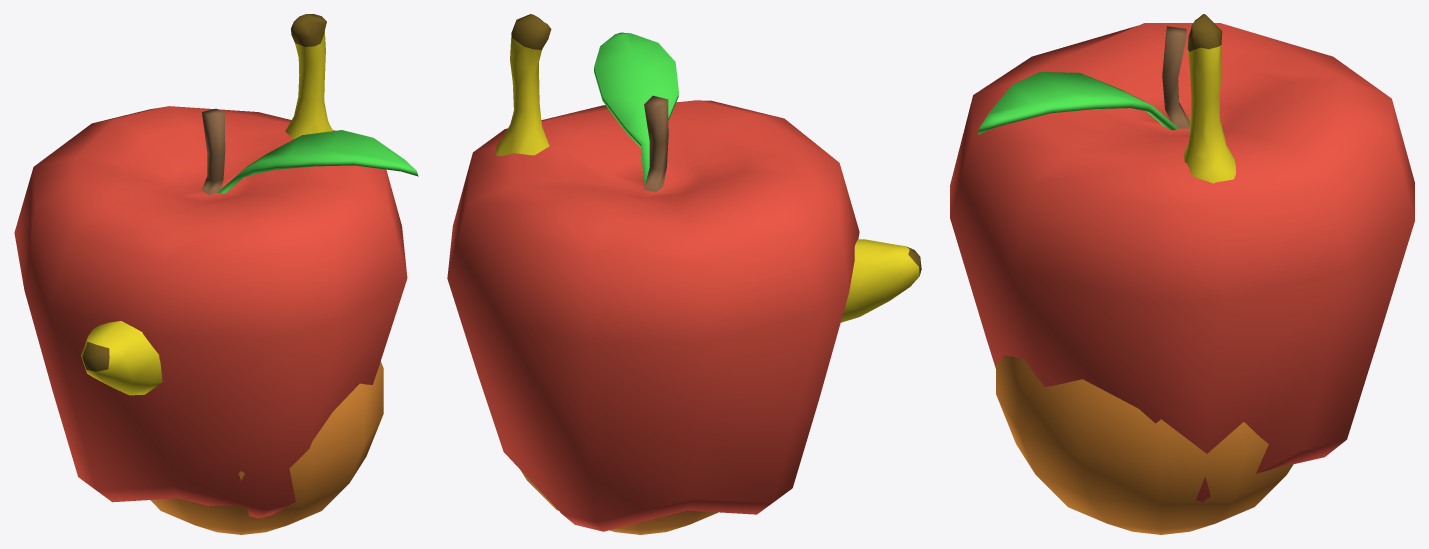
File: shailushaiHead2.fbx
3 renders of one model, left to right at view 1: azimuth 30°, elevation 25°; view 2: azimuth 150°, elevation 25°; view 3: azimuth 270°, elevation 25°, orthographic. The views are drawn at different scales.
Visible parts, largest first — view 1: Cube.026_Cube, group1203776062, Banana; view 2: Cube.026_Cube, Banana, group1203776062; view 3: Cube.026_Cube, group1203776062, Banana.
Boxes of the visible parts, left/top/right/bottom form: Cube.026_Cube: left=14, top=106, right=418, bottom=518; group1203776062: left=150, top=361, right=383, bottom=534; Banana: left=81, top=14, right=333, bottom=395; Cube.026_Cube: left=447, top=32, right=859, bottom=531; Banana: left=496, top=14, right=921, bottom=322; group1203776062: left=520, top=470, right=718, bottom=534; Cube.026_Cube: left=950, top=23, right=1414, bottom=502; group1203776062: left=996, top=355, right=1293, bottom=534; Banana: left=1183, top=14, right=1235, bottom=183.
Size of the model in its own units: 3.98 by 4.93 by 3.77.
